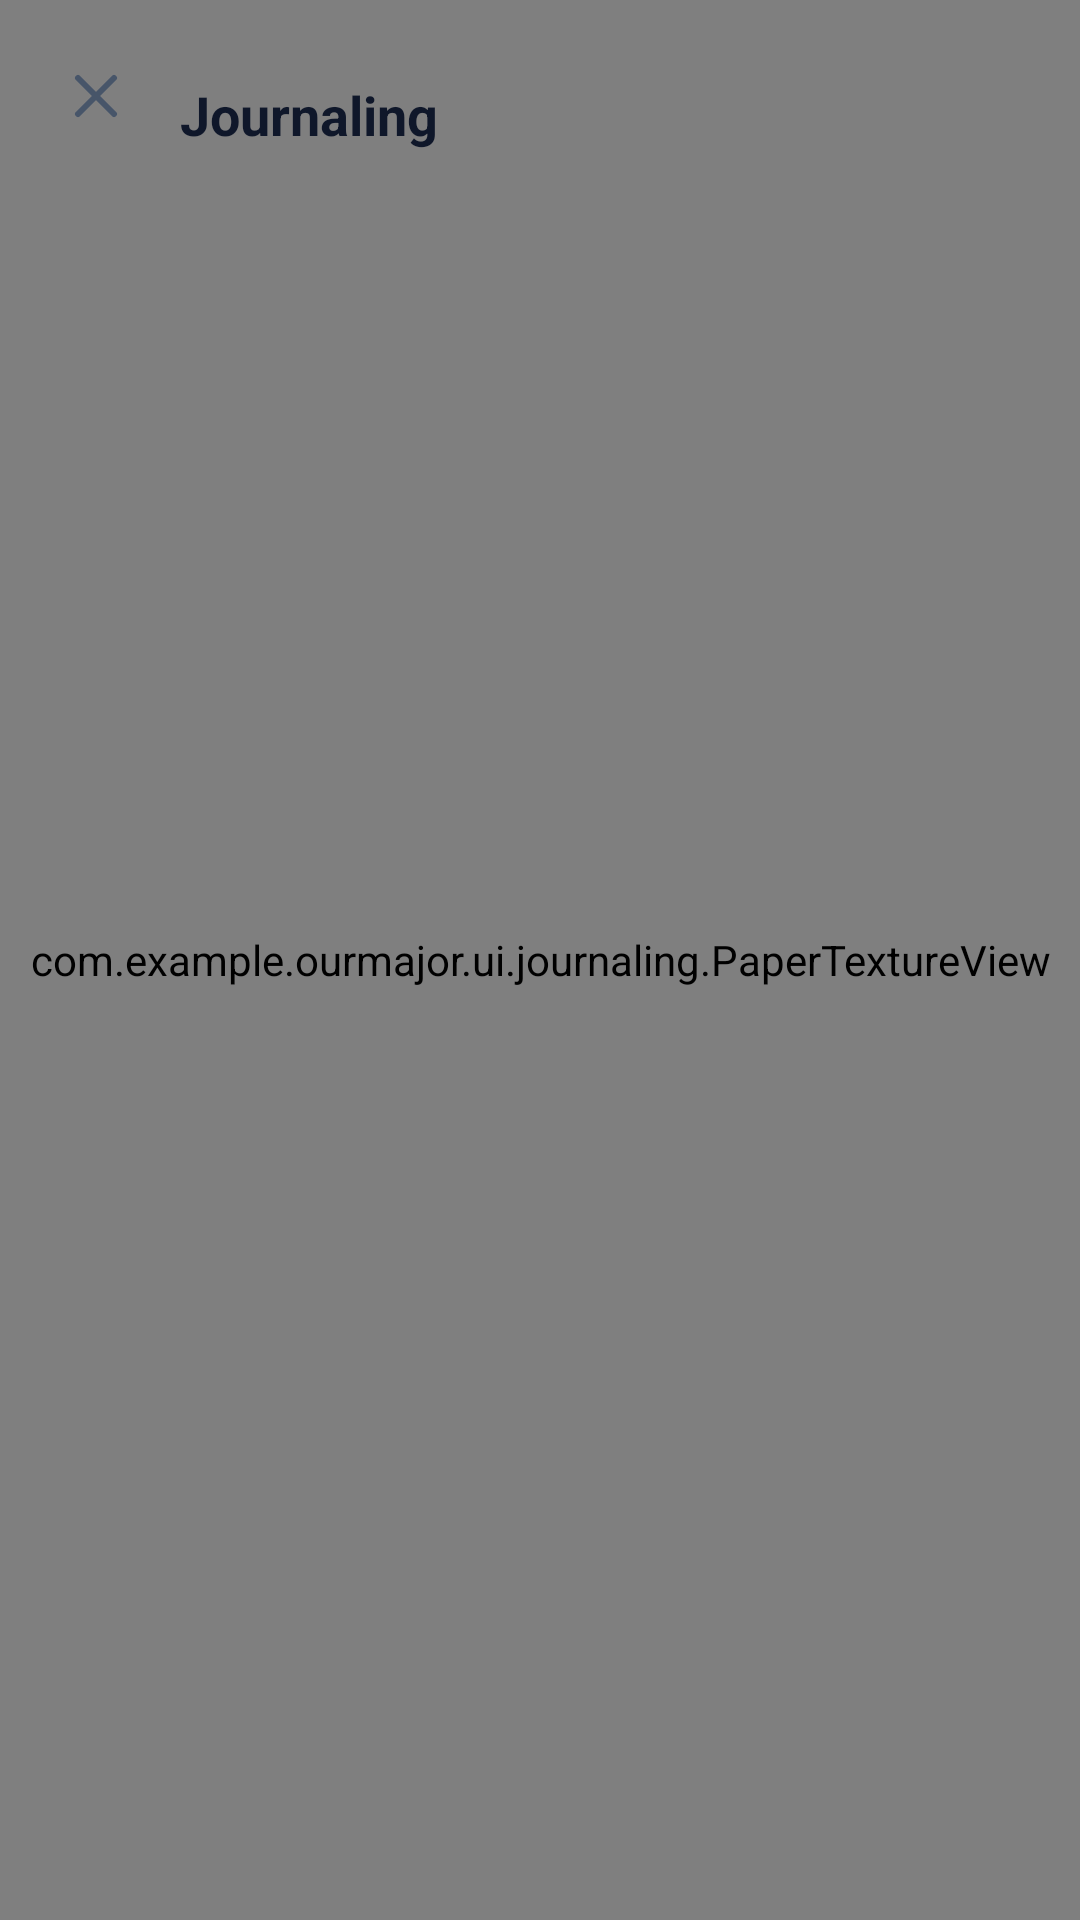

Icon click points for this 1080px x 1920px phone screenshot, format (x,y):
close: (96,96)
